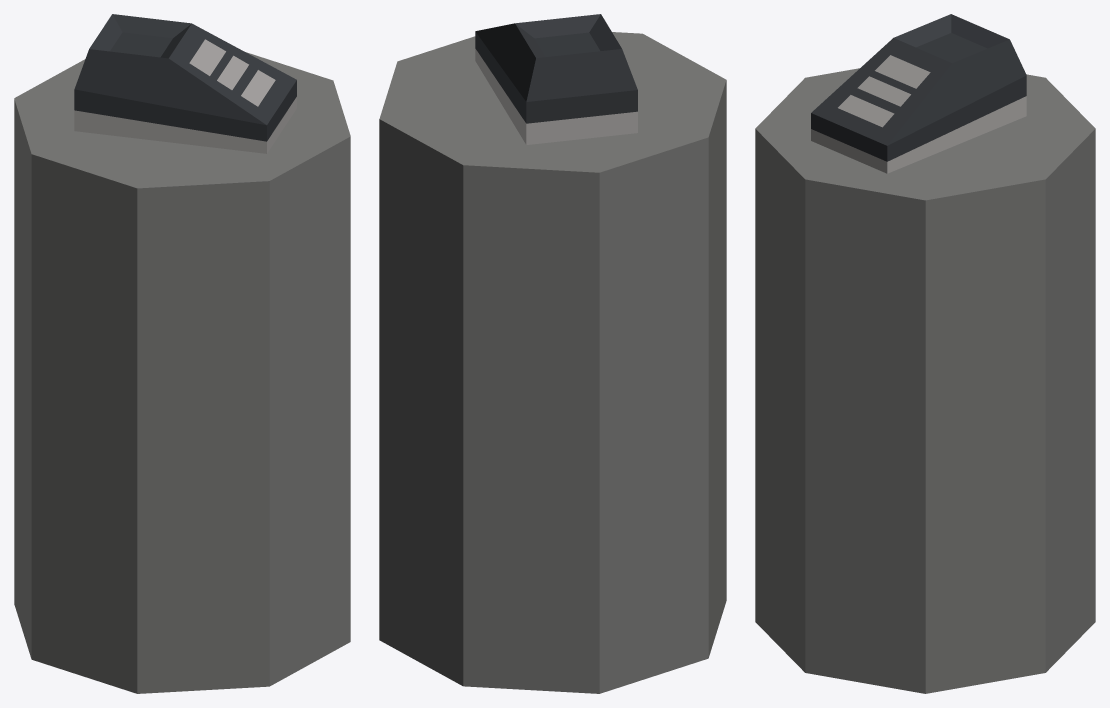
File: SM_Prop_ShopInterior_Display_01.fbx
3 renders of one model, left to right at view 1: azimuth 30°, elevation 25°; view 2: azimuth 150°, elevation 25°; view 3: azimuth 270°, elevation 25°, orthographic. The views are drawn at different scales.
Parts seen in each view (by area): view 1: SM_Prop_ShopInterior_Display_01; view 2: SM_Prop_ShopInterior_Display_01; view 3: SM_Prop_ShopInterior_Display_01.
Boxes of the visible parts, left/top/right/bottom form: SM_Prop_ShopInterior_Display_01: left=14, top=14, right=350, bottom=693; SM_Prop_ShopInterior_Display_01: left=379, top=14, right=726, bottom=693; SM_Prop_ShopInterior_Display_01: left=755, top=14, right=1095, bottom=693.
Size of the model in its own units: 63.82 by 118 by 63.82.
